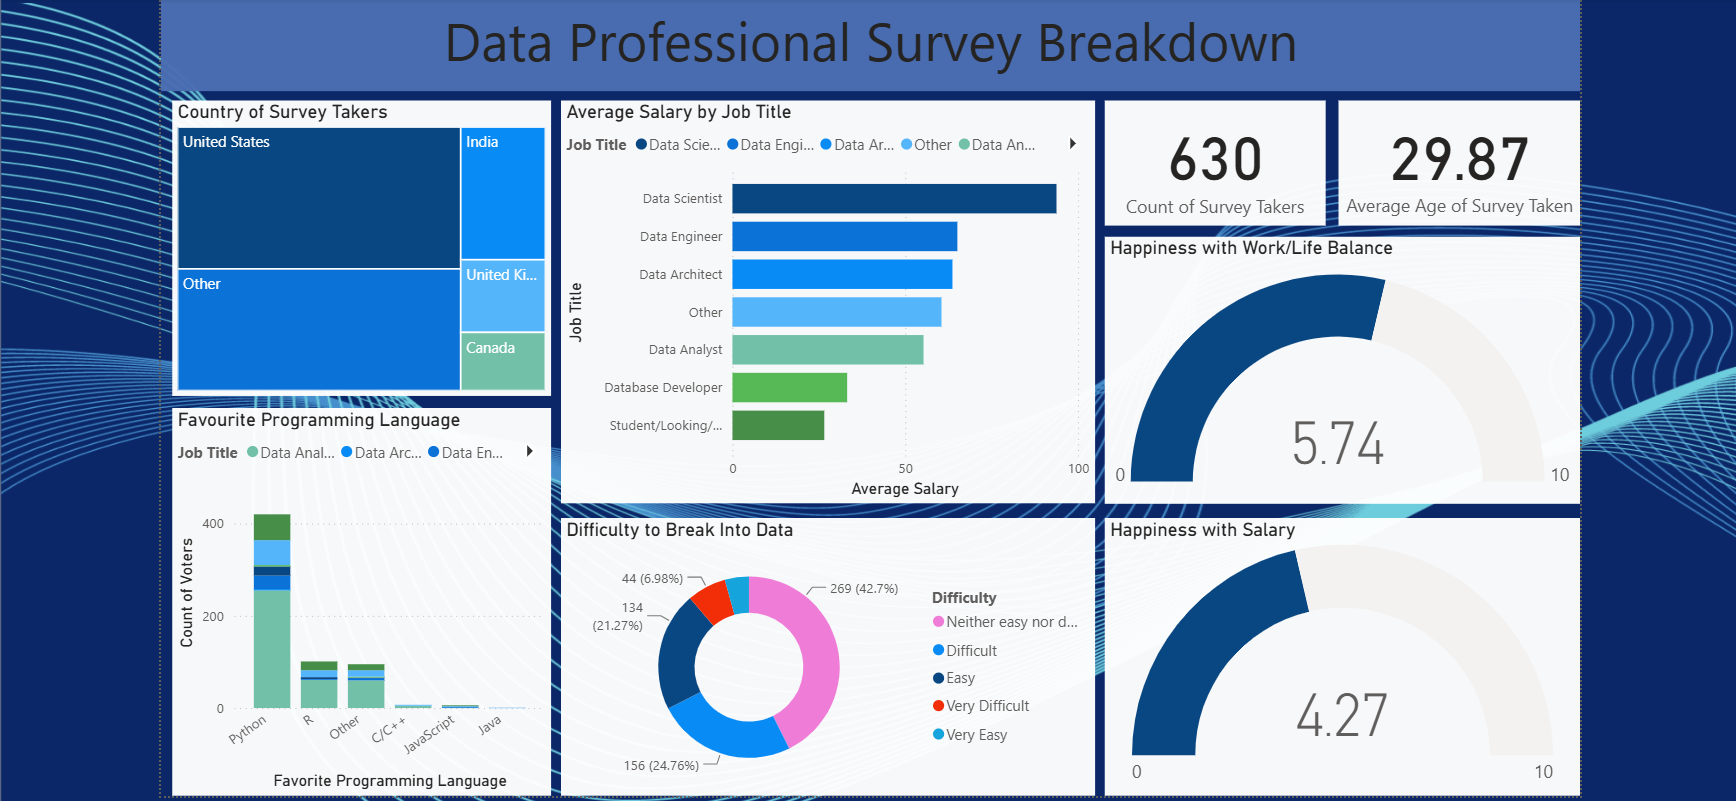

The dashboard page shown, as its layout file describes it:
{"tool":"powerbi","page":{"name":"Page 1","canvas":[1280,720],"ordinal":0},"visuals":[{"type":"textbox","box":[0,0,1280.3,83.7],"z":0},{"type":"card","fields":{"Values":["Count(Data Professional Survey.Unique ID)"]},"box":[851,92.7,199.4,113],"z":1000},{"type":"card","fields":{"Values":["Avg(Data Professional Survey.Q10 - Current Age)"]},"box":[1061.4,92.9,218.9,112.5],"z":2000},{"type":"barChart","title":"Average Salary by Job Title","fields":{"Category":["Data Professional Survey.Q1 - Which Title Best Fits your Current Role?"],"Y":["Avg(Data Professional Survey.Average Salary)"],"Series":["Data Professional Survey.Q1 - Which Title Best Fits your Current Role?"]},"box":[360.7,92.7,481.4,363.2],"z":3000},{"type":"columnChart","title":"Favourite Programming Language","fields":{"Category":["Data Professional Survey.Q5 - Favorite Programming Language"],"Y":["CountNonNull(Data Professional Survey.Unique ID)"],"Series":["Data Professional Survey.Q1 - Which Title Best Fits your Current Role?"]},"box":[10.2,369.6,341.7,349.3],"z":4000},{"type":"treemap","title":"Country of Survey Takers","fields":{"Group":["Data Professional Survey.Q11 - Which Country do you live in?"],"Values":["CountNonNull(Data Professional Survey.Q11 - Which Country do you live in?)"]},"box":[10.2,92.7,341.7,266.7],"z":5000},{"type":"gauge","title":"Happiness with Work/Life Balance","fields":{"Y":["Avg(Data Professional Survey.Q6 - How Happy are you in your Current Position with the following? (Work/Life Balance))"],"MinValue":["Min(Data Professional Survey.Q6 - How Happy are you in your Current Position with the following? (Work/Life Balance))"],"MaxValue":["Max(Data Professional Survey.Q6 - How Happy are you in your Current Position with the following? (Work/Life Balance))"]},"box":[851.1,215.2,429.2,240.9],"z":6000},{"type":"gauge","title":"Happiness with Salary","fields":{"Y":["Avg(Data Professional Survey.Q6 - How Happy are you in your Current Position with the following? (Salary))"],"MinValue":["Min(Data Professional Survey.Q6 - How Happy are you in your Current Position with the following? (Salary))"],"MaxValue":["Max(Data Professional Survey.Q6 - How Happy are you in your Current Position with the following? (Salary))"]},"box":[851.1,468.3,429.2,250.7],"z":7000},{"type":"donutChart","title":"Difficulty to Break Into Data","fields":{"Category":["Data Professional Survey.Q7 - How difficult was it for you to break into Data?"],"Y":["CountNonNull(Data Professional Survey.Q7 - How difficult was it for you to break into Data?)"]},"box":[360.7,468.7,481.4,250.2],"z":8000}]}

Visuals, with their boxes in screenshot pixels (x1, y1, x2, y2):
textbox: bbox(167, 0, 1570, 92)
card - Count(Data Professional Survey.Unique ID): bbox(1100, 102, 1319, 225)
card - Avg(Data Professional Survey.Q10 - Current Age): bbox(1331, 102, 1570, 225)
"Average Salary by Job Title" barChart: bbox(563, 102, 1090, 500)
"Favourite Programming Language" columnChart: bbox(178, 405, 553, 788)
"Country of Survey Takers" treemap: bbox(178, 102, 553, 394)
"Happiness with Work/Life Balance" gauge: bbox(1100, 236, 1570, 500)
"Happiness with Salary" gauge: bbox(1100, 513, 1570, 788)
"Difficulty to Break Into Data" donutChart: bbox(563, 514, 1090, 788)
